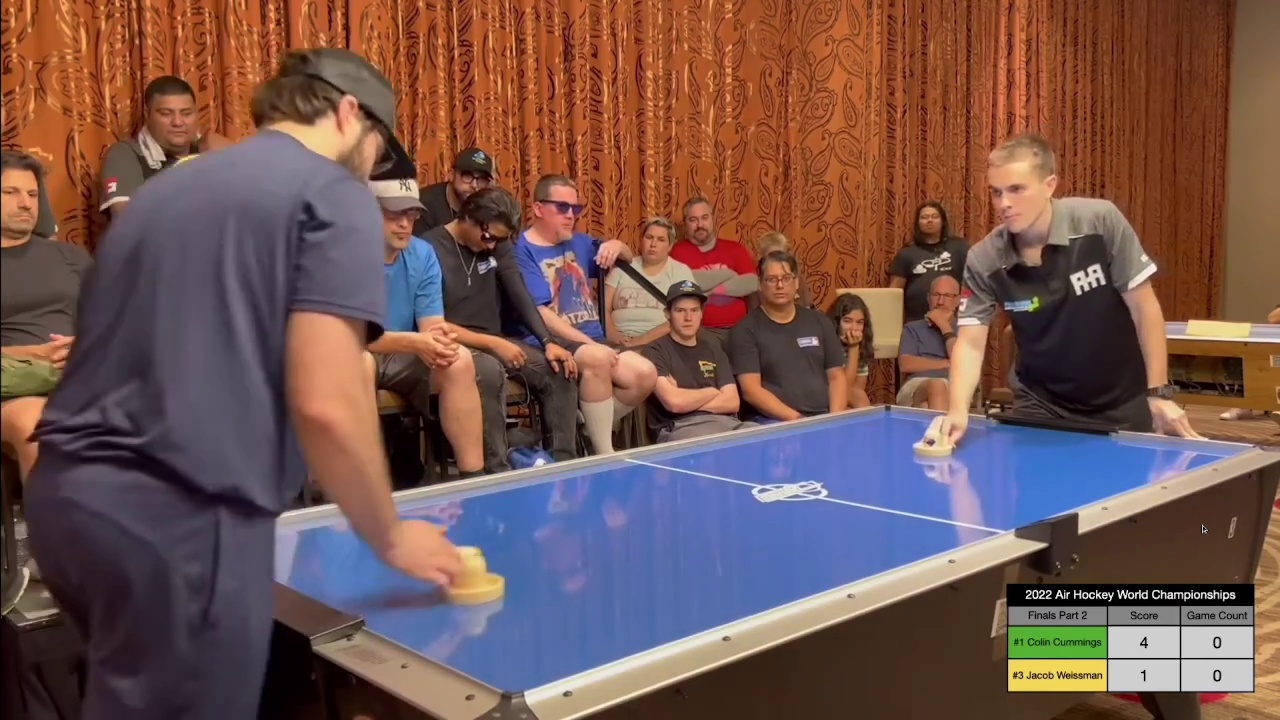player: (447, 545, 514, 604), (913, 430, 952, 458)
table: (207, 402, 1280, 695)
